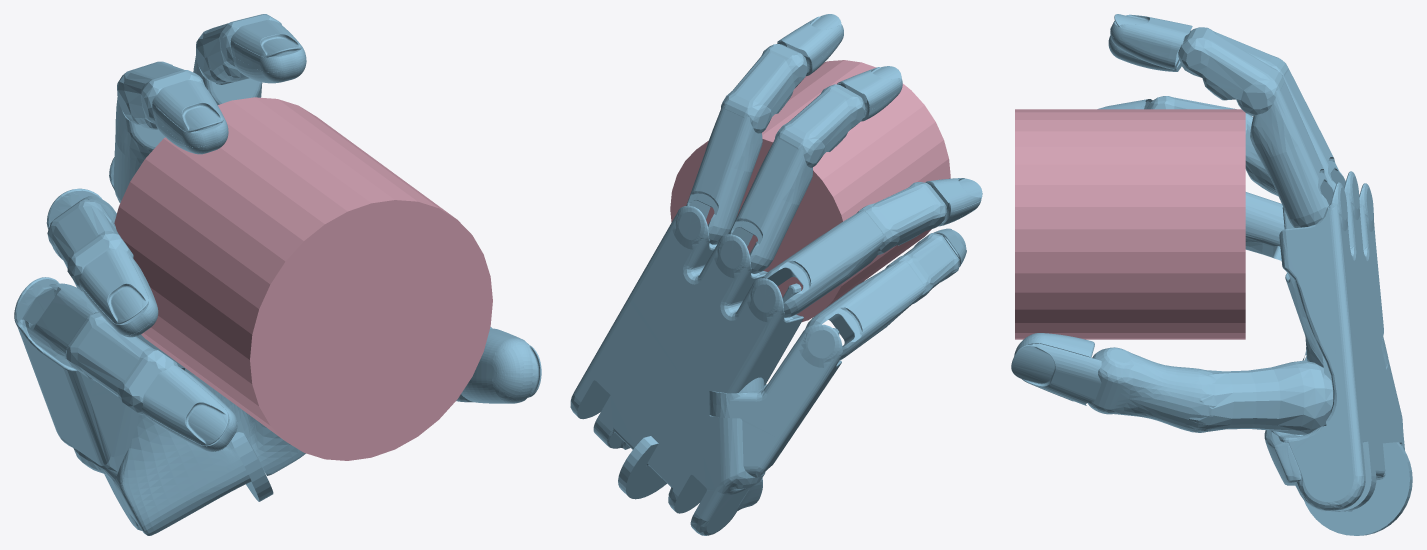
3 views of the same model, side by side, from view 1: azimuth 30°, elevation 25°; view 2: azimuth 150°, elevation 25°; view 3: azimuth 270°, elevation 25° (orthographic). The views are drawn at different scales.
Parts seen in each view (by area): view 1: cylinder_medium.stl, world; view 2: world, cylinder_medium.stl; view 3: world, cylinder_medium.stl.
Boxes of the visible parts, x1,y1,x2,y2 form: cylinder_medium.stl: [114, 97, 492, 460]; world: [14, 14, 541, 535]; world: [570, 14, 982, 535]; cylinder_medium.stl: [670, 60, 950, 321]; world: [1011, 14, 1412, 535]; cylinder_medium.stl: [1015, 109, 1245, 339].
Size of the model in its own units: 0.1329 by 0.1878 by 0.1392.
